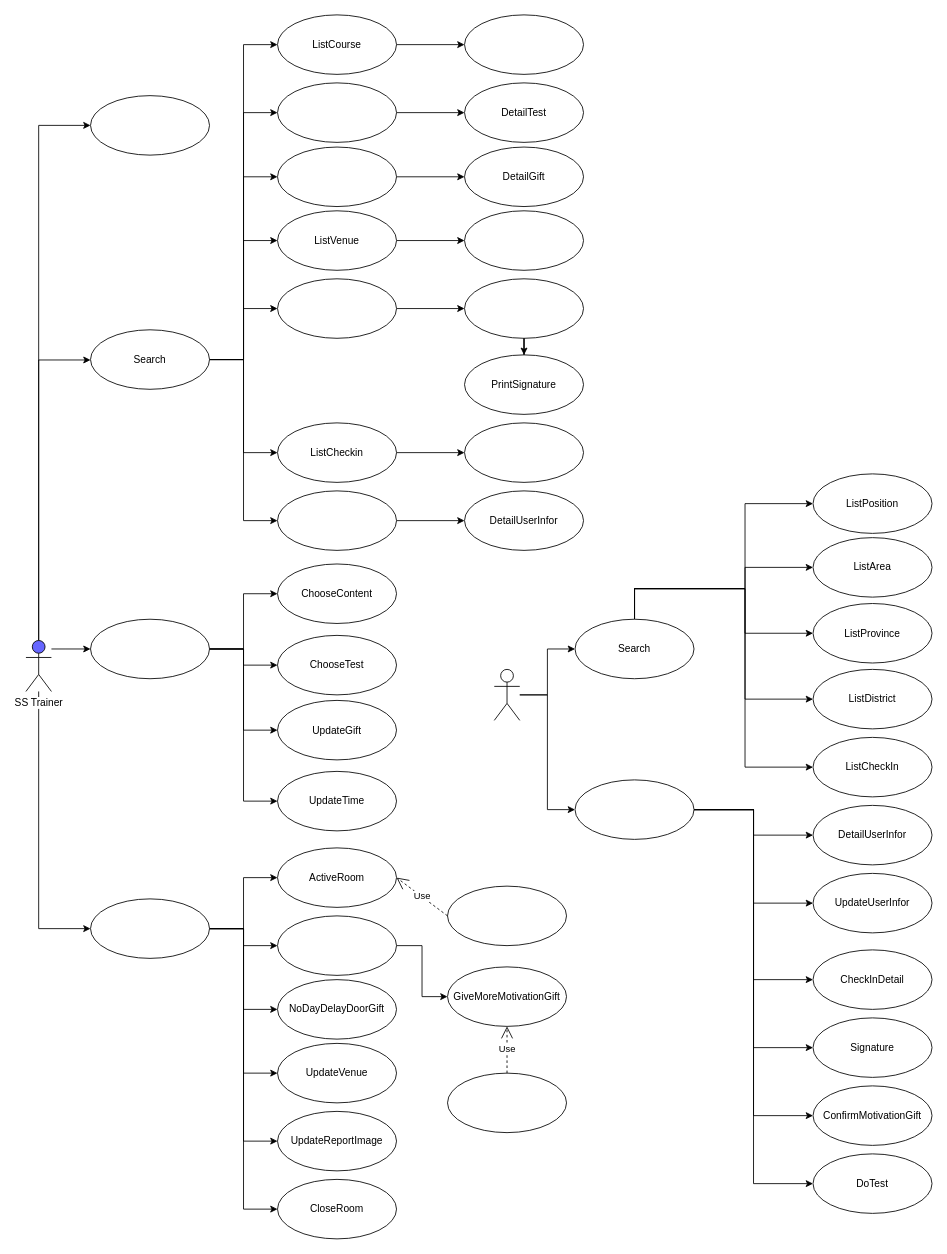
Image size: 947x1254. Some labels were removed from this diagram. The centre of each missing label's shape, as x and y in pixels:
"CheckIn" belongs at point (634, 809).
"Create Room" belongs at point (150, 928).
"CreateCourse" belongs at point (150, 648).
"CreateRoomQRCode" belongs at point (507, 915).
"DetailCheckin" belongs at point (524, 452).
"DetailCourse" belongs at point (524, 44).
"DetailRoom" belongs at point (524, 308).
"DetailVenue" belongs at point (524, 240).
"GetConfirm" belongs at point (507, 1102).
"GiveMotivationGift" belongs at point (337, 945).
"Learner" belongs at point (506, 694).
"ListGift" belongs at point (337, 176).
"ListRoom" belongs at point (337, 308).
"ListTest" belongs at point (337, 112).
"ListUser" belongs at point (337, 520).
"Login" belongs at point (150, 125).
